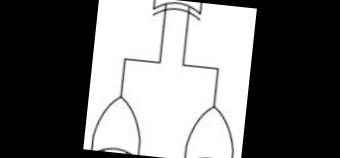xor: (87, 86, 152, 156), (178, 99, 244, 158), (145, 0, 206, 22)
